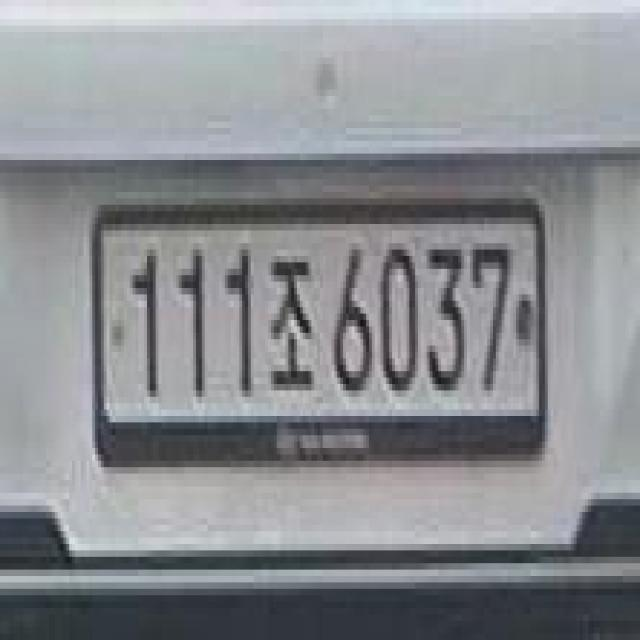illegal_plate: (90, 188, 548, 482)
